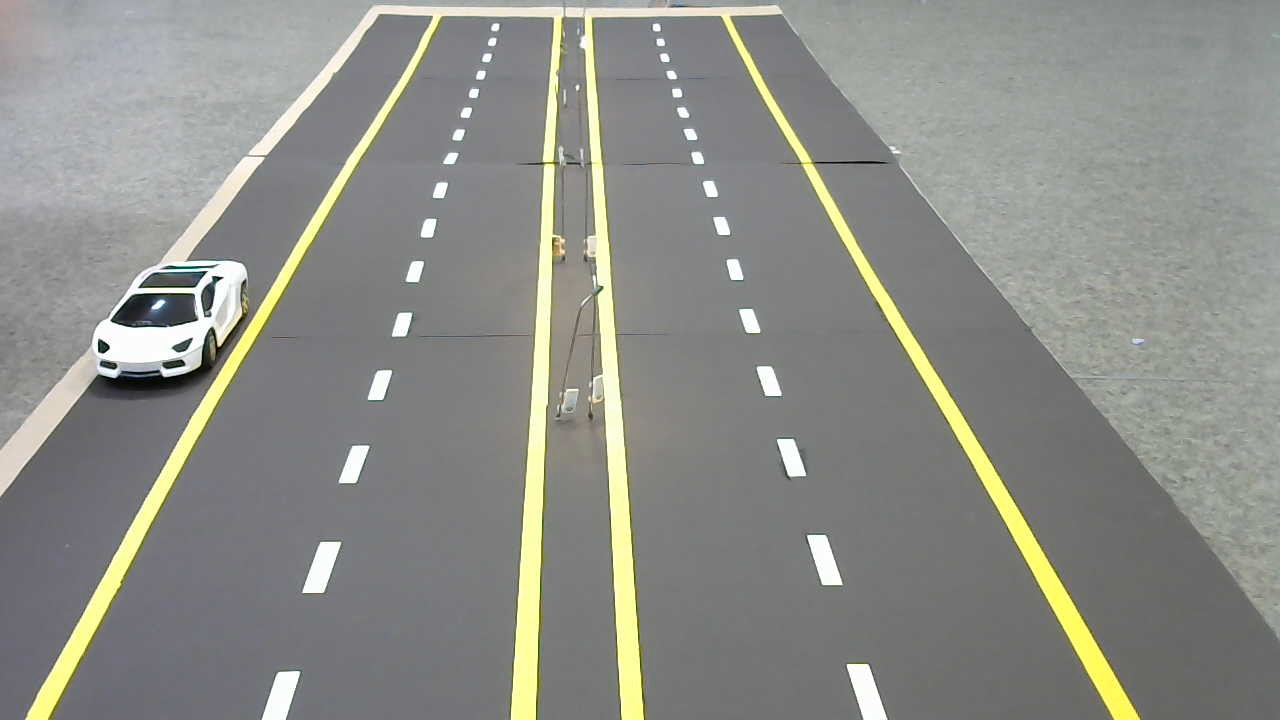front_car: (87, 257, 255, 388)
